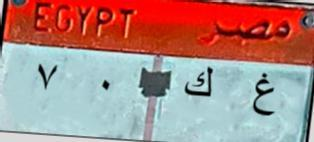0: (92, 73, 115, 98)
7: (33, 60, 58, 95)
ghayn: (250, 69, 278, 124)
kaaf: (180, 62, 216, 109)
